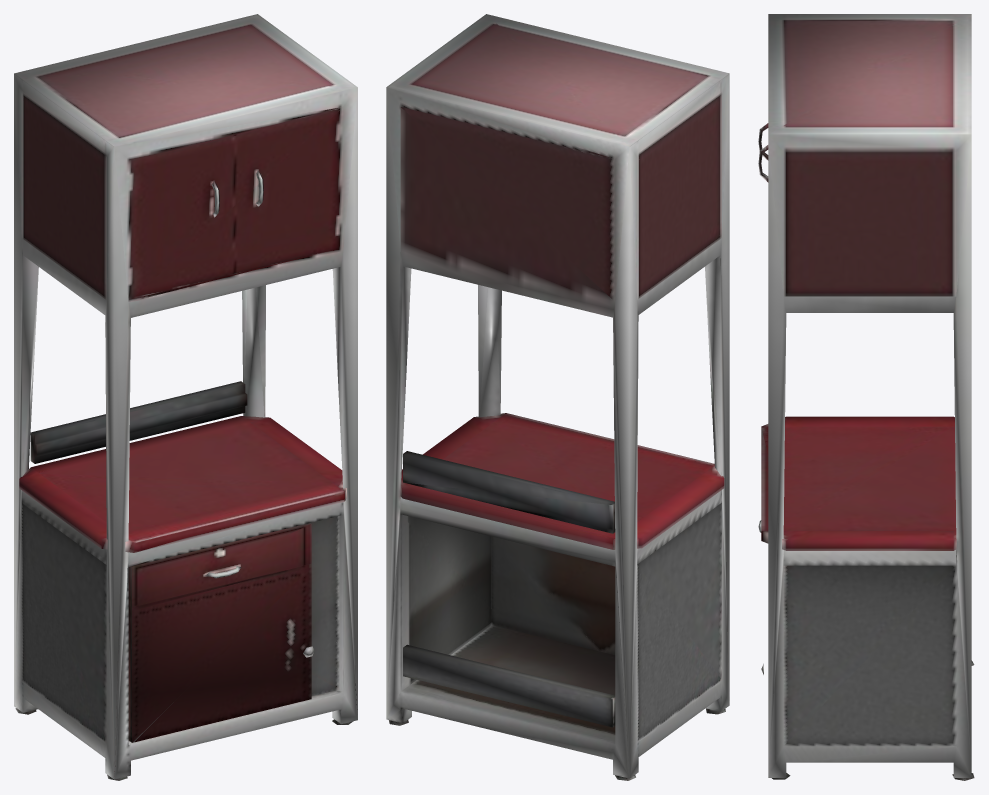
3 renders of one model, left to right at view 1: azimuth 30°, elevation 25°; view 2: azimuth 150°, elevation 25°; view 3: azimuth 270°, elevation 25°, orthographic.
Parts seen in each view (by area): view 1: tripo_node_1dcd7626; view 2: tripo_node_1dcd7626; view 3: tripo_node_1dcd7626.
Boxes of the visible parts, x1,y1,x2,y2 form: tripo_node_1dcd7626: [14, 14, 357, 780]; tripo_node_1dcd7626: [386, 14, 729, 780]; tripo_node_1dcd7626: [758, 14, 974, 780].
Bounding box in the file's own units: 41.21 × 99.8 × 30.27.
Materials: 1 (1 with a texture image).
